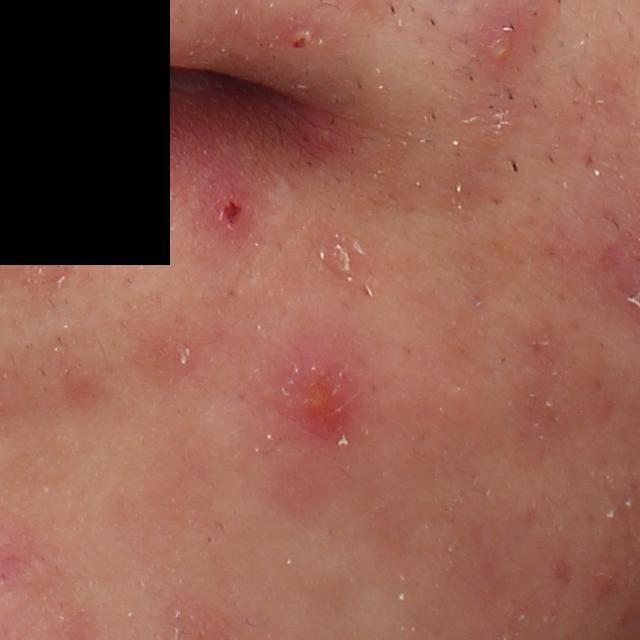papule: (269, 340, 359, 454), (201, 178, 255, 242), (275, 15, 334, 58)
pustule: (477, 12, 527, 67)
